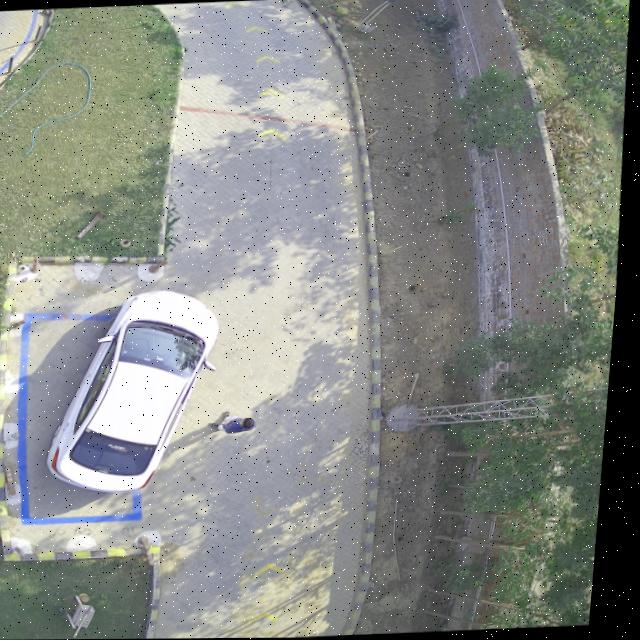car: (56, 291, 223, 493)
